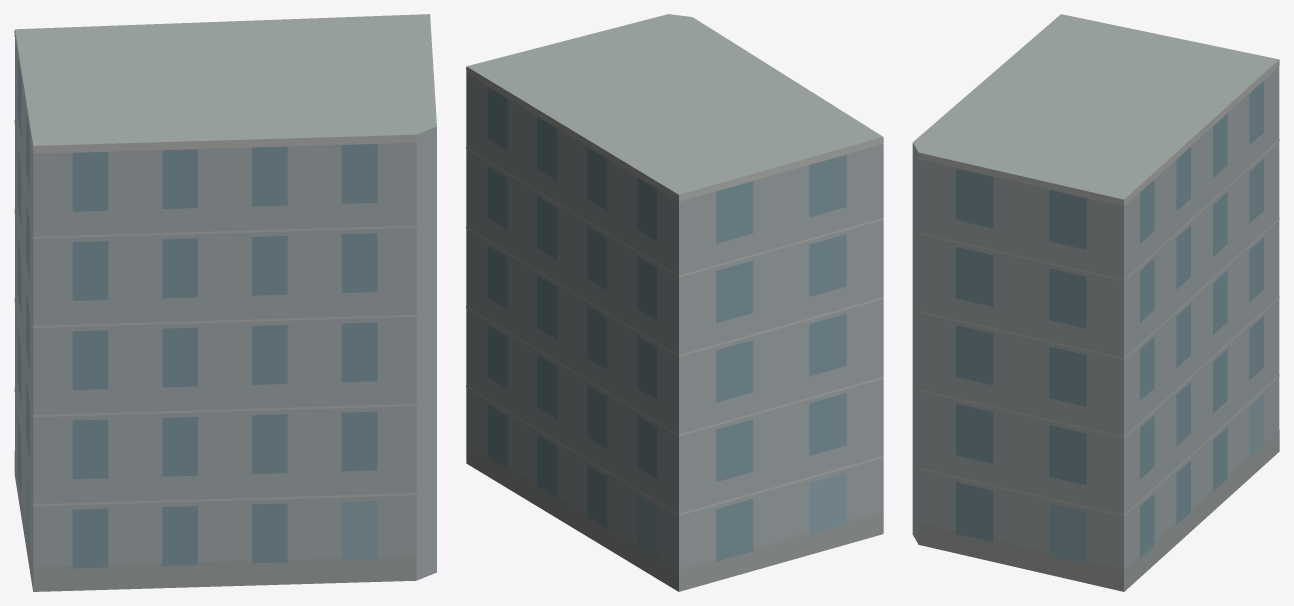
Rendered from survey-upis-32819159.glb.
The picture shows the model from 3 angles, left to right: view 1: azimuth 30°, elevation 25°; view 2: azimuth 150°, elevation 25°; view 3: azimuth 270°, elevation 25°; orthographic projection. The views are drawn at different scales.
Parts seen in each view (by area): view 1: survey-upis-32819159.tmp; view 2: survey-upis-32819159.tmp; view 3: survey-upis-32819159.tmp.
Part boxes in pixels (<box>): survey-upis-32819159.tmp: <box>14,14,436,591</box>; survey-upis-32819159.tmp: <box>466,14,883,591</box>; survey-upis-32819159.tmp: <box>912,14,1279,591</box>.
Size of the model in its own units: 14.24 by 14 by 11.89.
